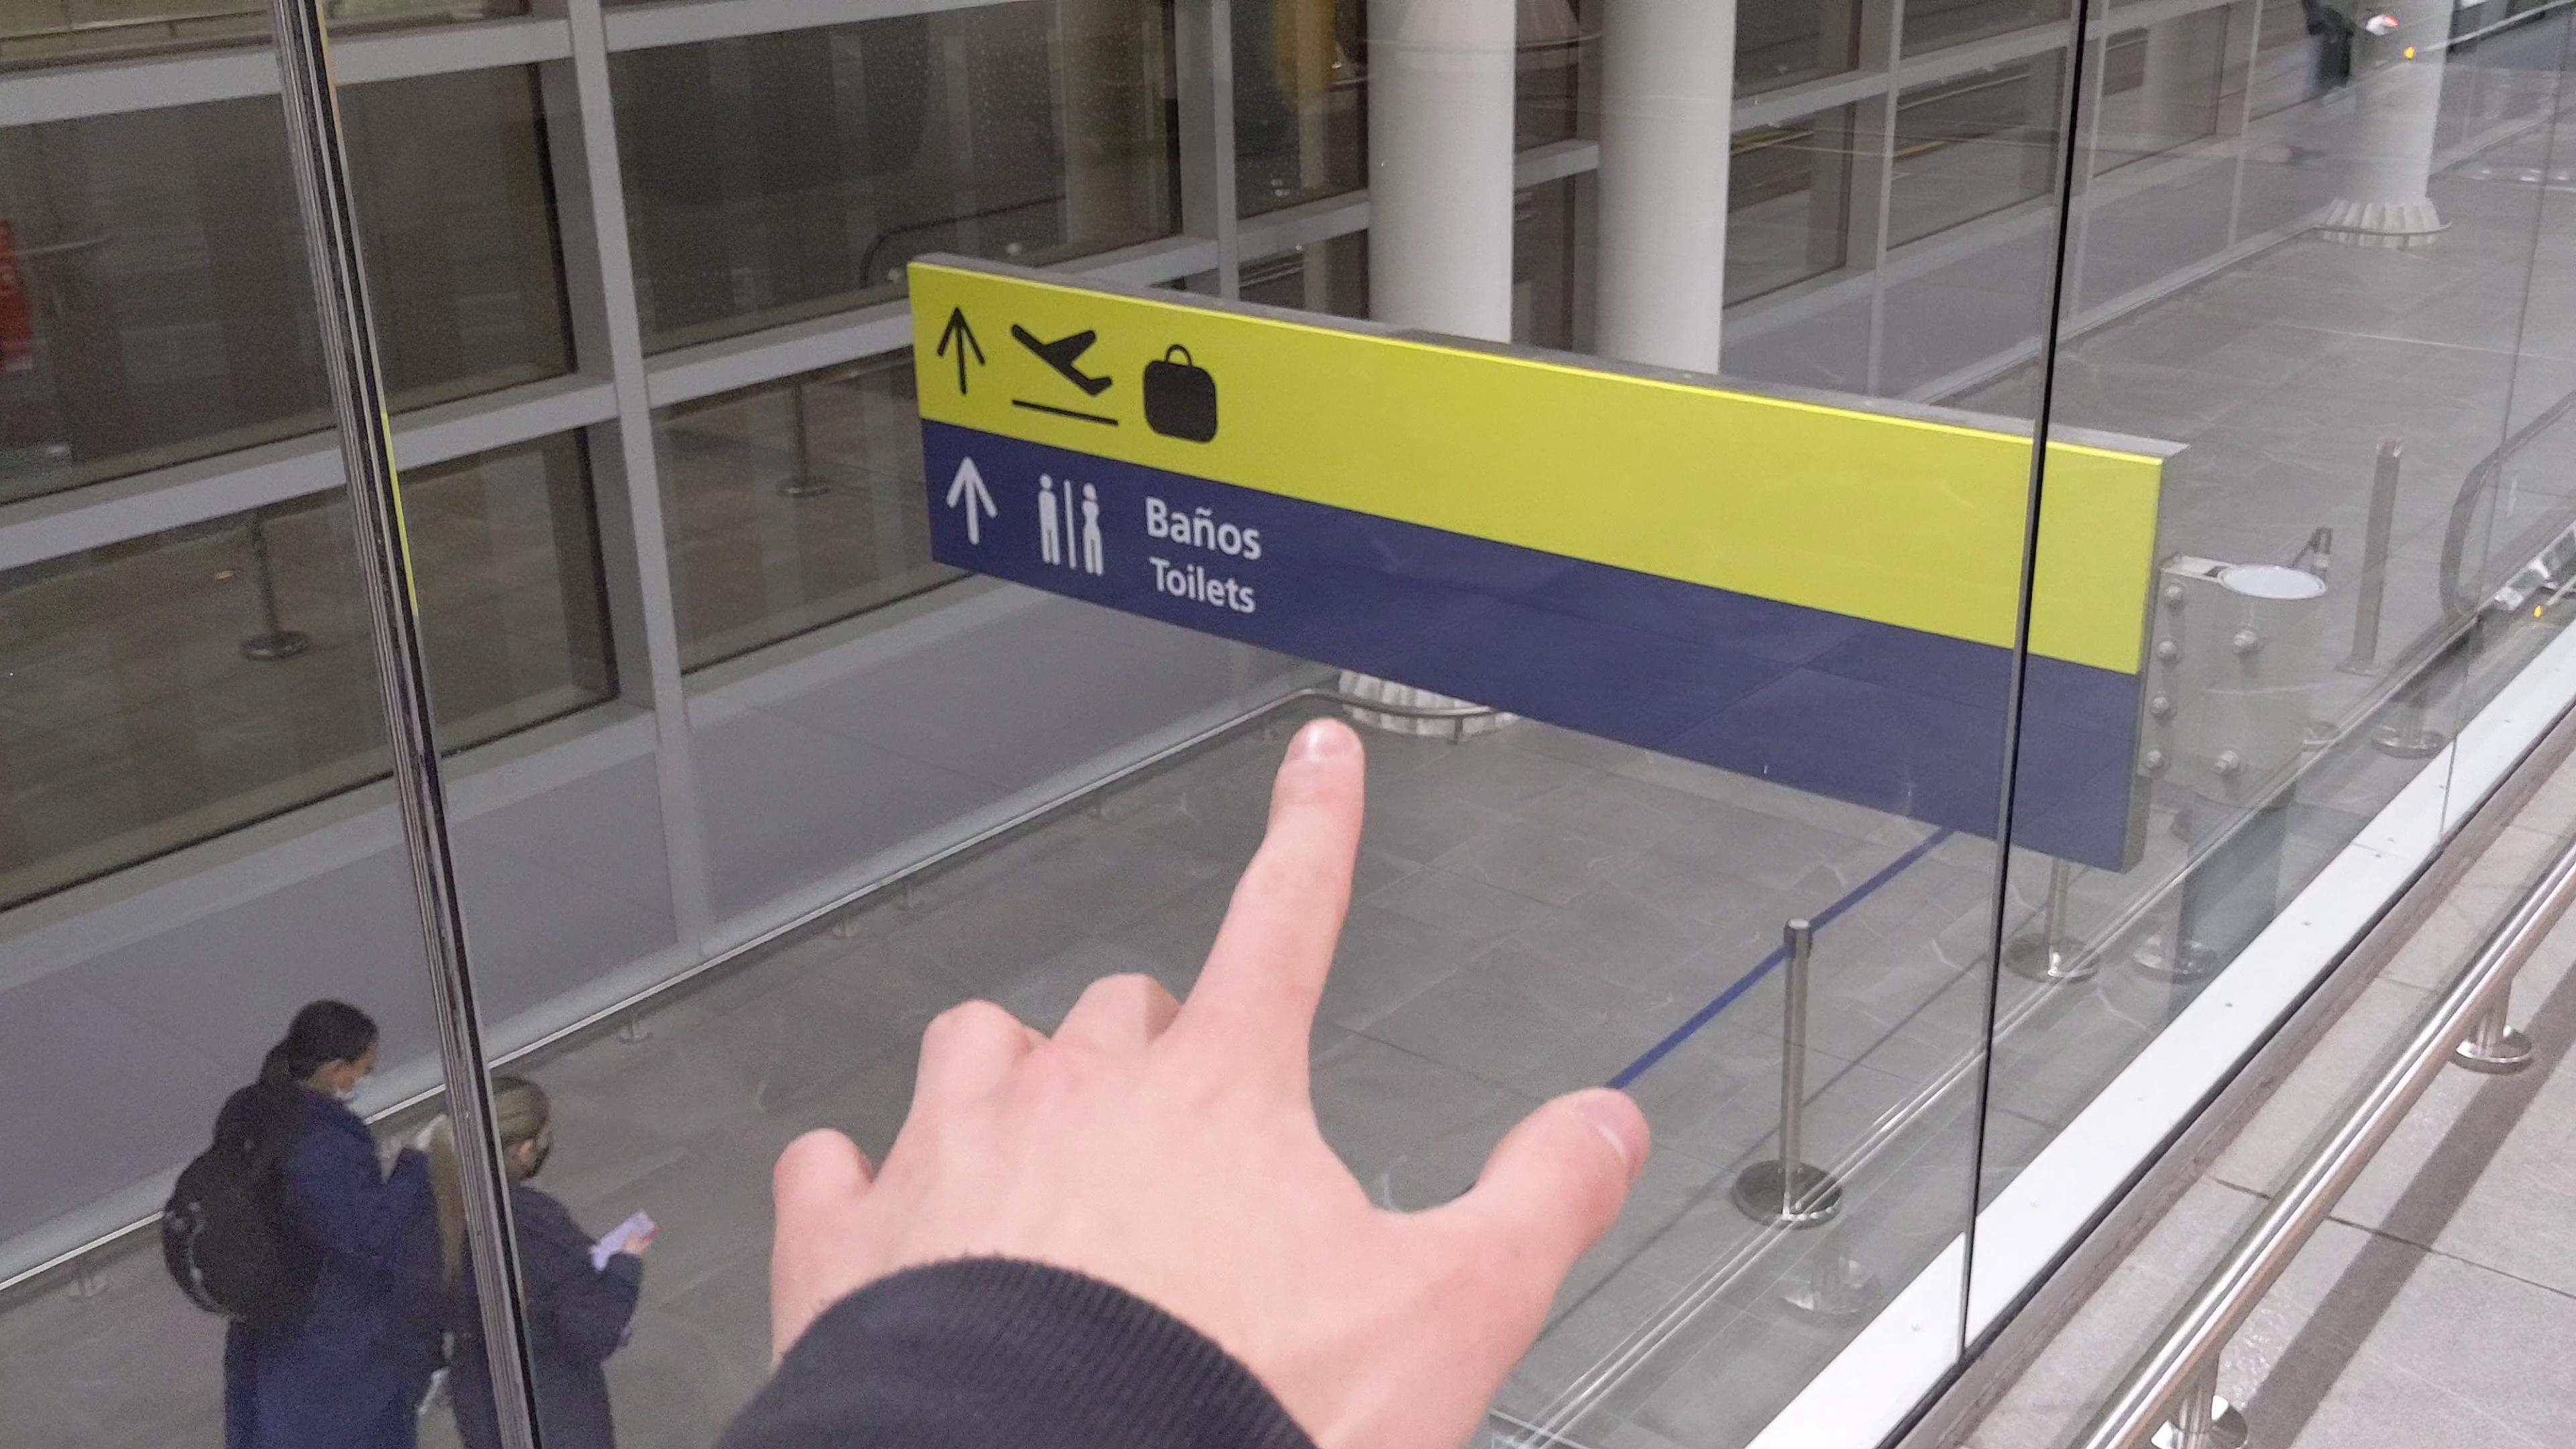airplane symbol: (1007, 317, 1116, 402)
baggage claim: (1138, 340, 1224, 444)
bathrooms: (1031, 467, 1113, 580)
thin up arrow: (941, 453, 1003, 548), (932, 301, 991, 400)
